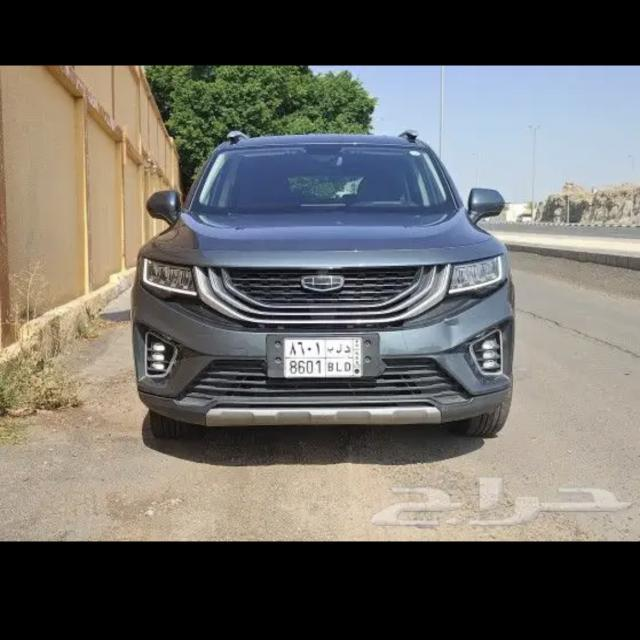license_plate: (282, 338, 364, 380)
